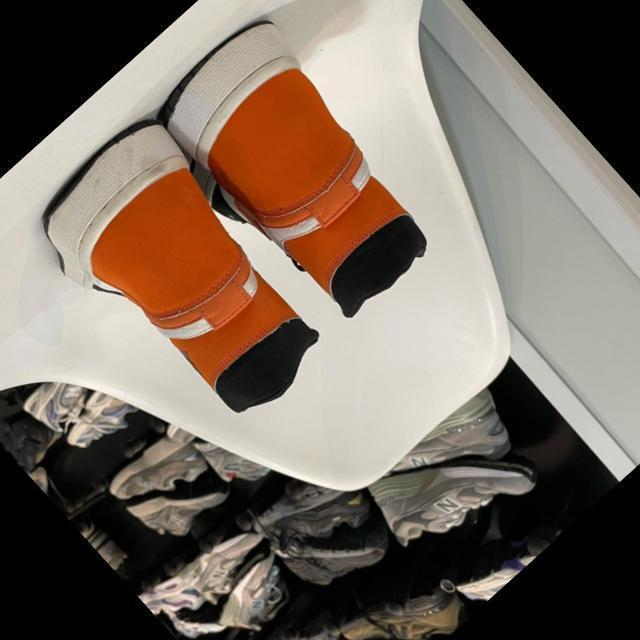nike fake jordan 1: (16, 110, 350, 454), (133, 9, 460, 346)
